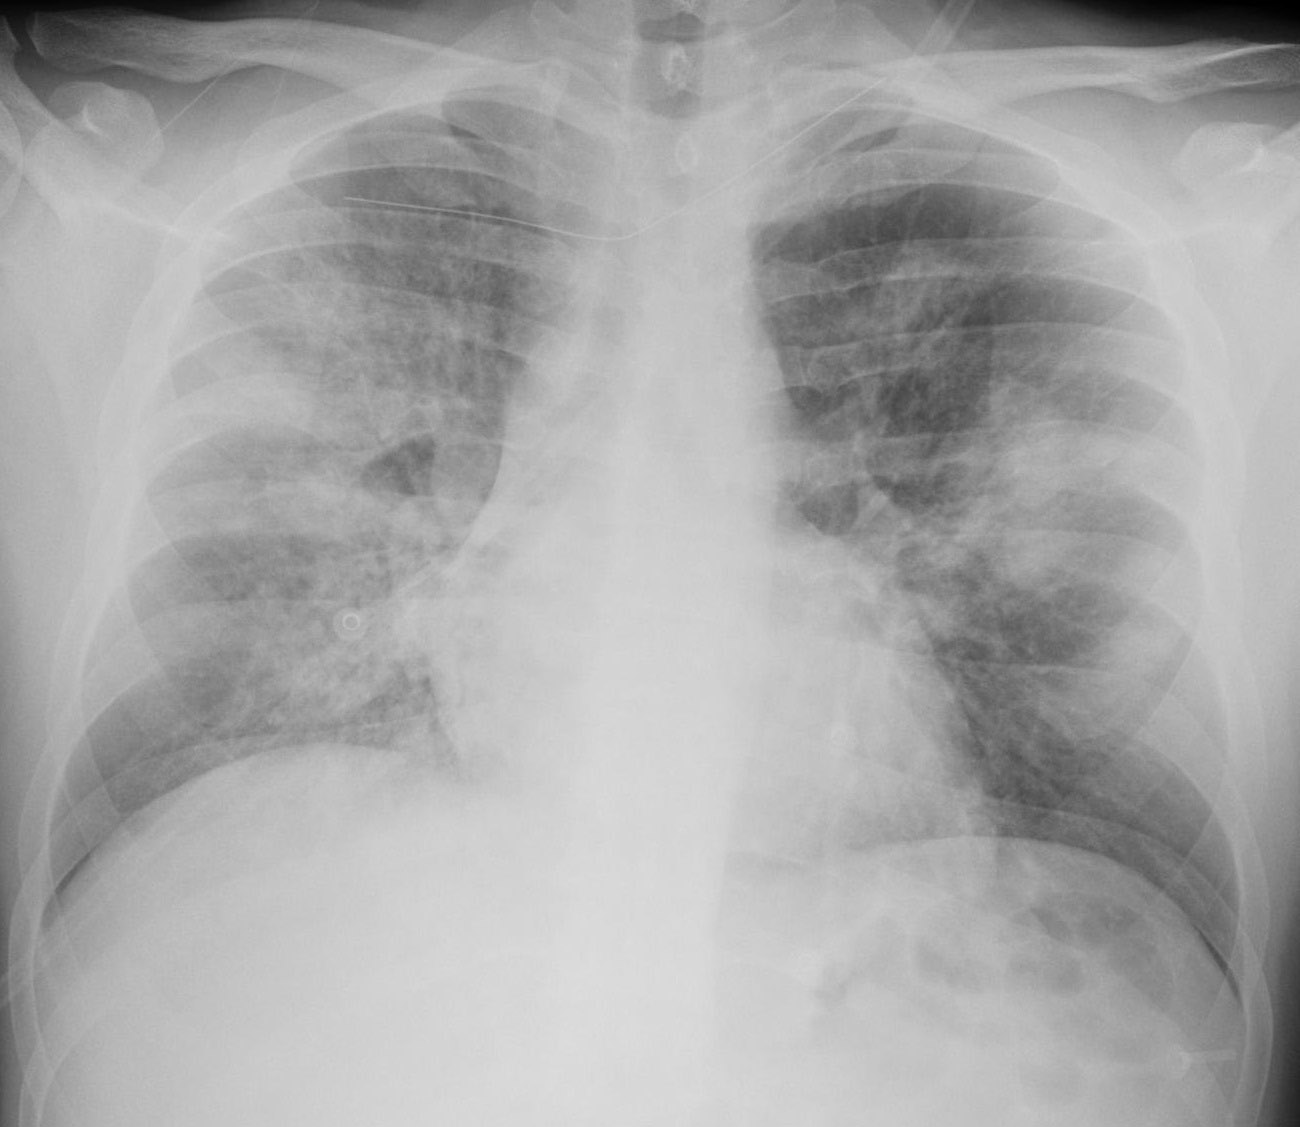Severe: (57, 102, 612, 923), (751, 98, 1237, 1000)
